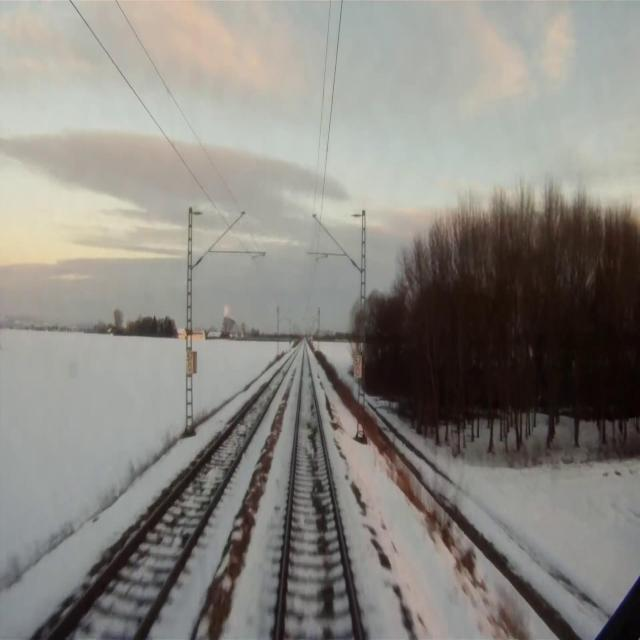rail-track: (49, 358, 291, 639), (279, 353, 358, 639)
